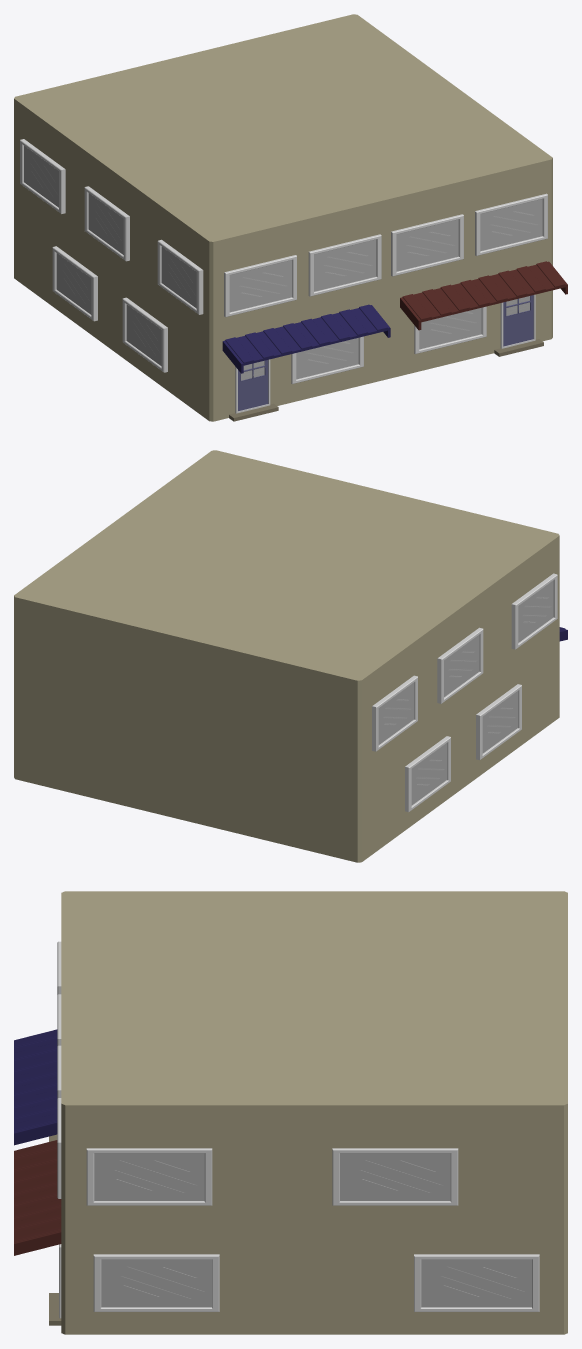
Rendered from Shop Long.fbx.
The picture shows the model from 3 angles, top to bottom: view 1: azimuth 30°, elevation 25°; view 2: azimuth 150°, elevation 25°; view 3: azimuth 270°, elevation 25°; orthographic projection. The views are drawn at different scales.
Visible parts, largest first — view 1: pCube1, pCube10, pCube9, pCube11, pCube12, pCube13, pCube14, pCube7, pCube18, pCube6, pCube20, pCube21 (+4 smaller); view 2: pCube1, pCube18, pCube19, pCube20, pCube21, pCube22; view 3: pCube1, pCube8, pCube16, pCube17, pCube15, pCube9, pCube10.
Boxes of the visible parts, box(x1,y1,x2,y2) form: pCube1: box(14, 14, 552, 421); pCube10: box(222, 304, 390, 373); pCube9: box(400, 261, 567, 330); pCube11: box(308, 234, 381, 296); pCube12: box(391, 214, 463, 276); pCube13: box(224, 255, 296, 317); pCube14: box(475, 193, 547, 255); pCube7: box(291, 336, 363, 384); pCube18: box(157, 239, 203, 314); pCube6: box(414, 306, 486, 354); pCube20: box(20, 139, 65, 213); pCube21: box(122, 297, 167, 372); pCube1: box(14, 450, 559, 862); pCube18: box(511, 573, 557, 649); pCube19: box(437, 627, 483, 703); pCube20: box(372, 675, 417, 751); pCube21: box(476, 684, 521, 760); pCube22: box(405, 736, 450, 812); pCube1: box(61, 891, 567, 1334); pCube8: box(93, 1254, 219, 1311); pCube16: box(86, 1148, 212, 1205); pCube17: box(332, 1148, 458, 1205); pCube15: box(414, 1254, 539, 1311); pCube9: box(14, 1140, 61, 1255); pCube10: box(14, 1029, 57, 1145).
Size of the model in its own units: 30.59 by 15.01 by 32.81.
7 materials, 1 textured.
